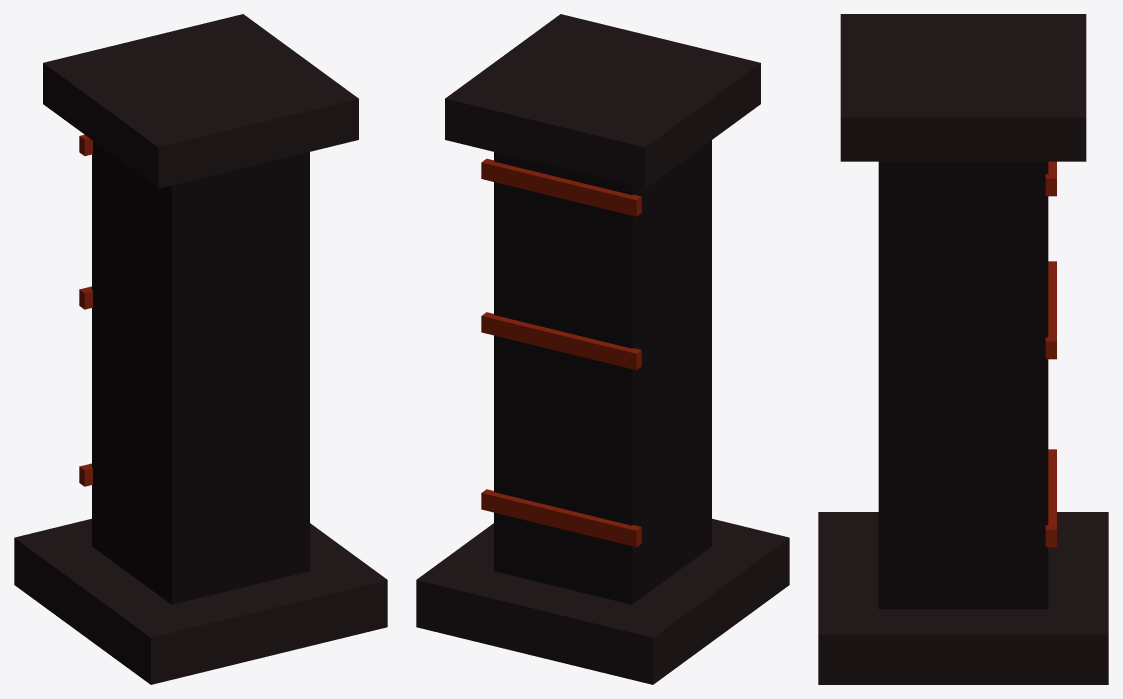
Rendered from fortress_pillar.obj.
The picture shows the model from 3 angles, left to right: view 1: azimuth 30°, elevation 25°; view 2: azimuth 150°, elevation 25°; view 3: azimuth 270°, elevation 25°; orthographic projection. The views are drawn at different scales.
Parts seen in each view (by area): view 1: fortress_pillar; view 2: fortress_pillar; view 3: fortress_pillar.
Part boxes in pixels (bbox=[...]): fortress_pillar: bbox=[14, 14, 387, 684]; fortress_pillar: bbox=[416, 14, 789, 684]; fortress_pillar: bbox=[818, 14, 1108, 684].
Size of the model in its own units: 4.2 by 8.9 by 4.2.
